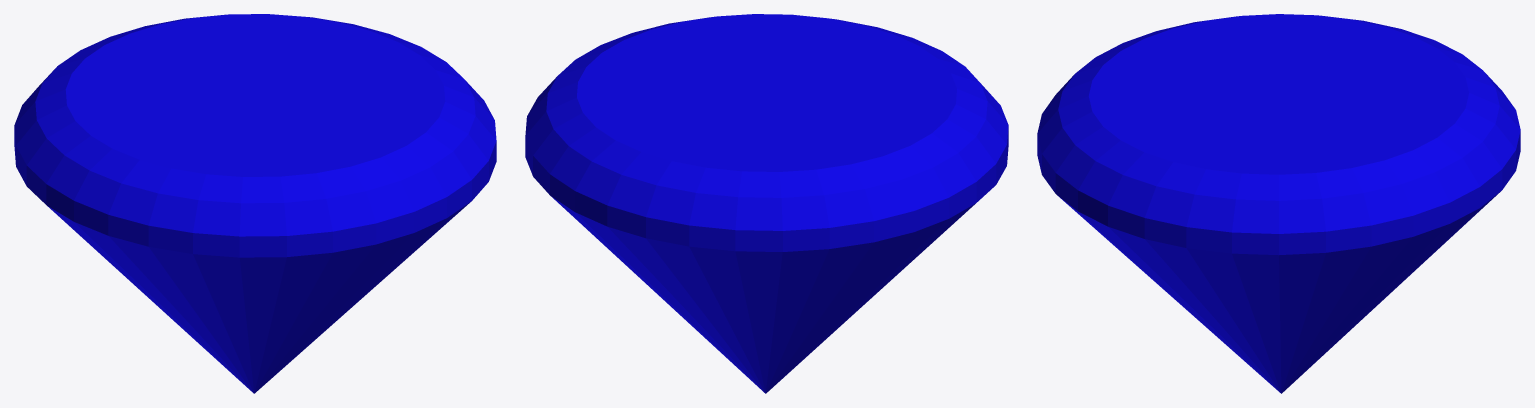
Rendered from diamante.glb.
The picture shows the model from 3 angles, left to right: view 1: azimuth 30°, elevation 25°; view 2: azimuth 150°, elevation 25°; view 3: azimuth 270°, elevation 25°; orthographic projection.
Visible parts, largest first — view 1: Cone; view 2: Cone; view 3: Cone.
Part boxes in pixels (<box>): Cone: <box>14,14,496,393</box>; Cone: <box>525,14,1008,393</box>; Cone: <box>1037,14,1520,393</box>.
Size of the model in its own units: 1.73 by 1.19 by 1.73.
